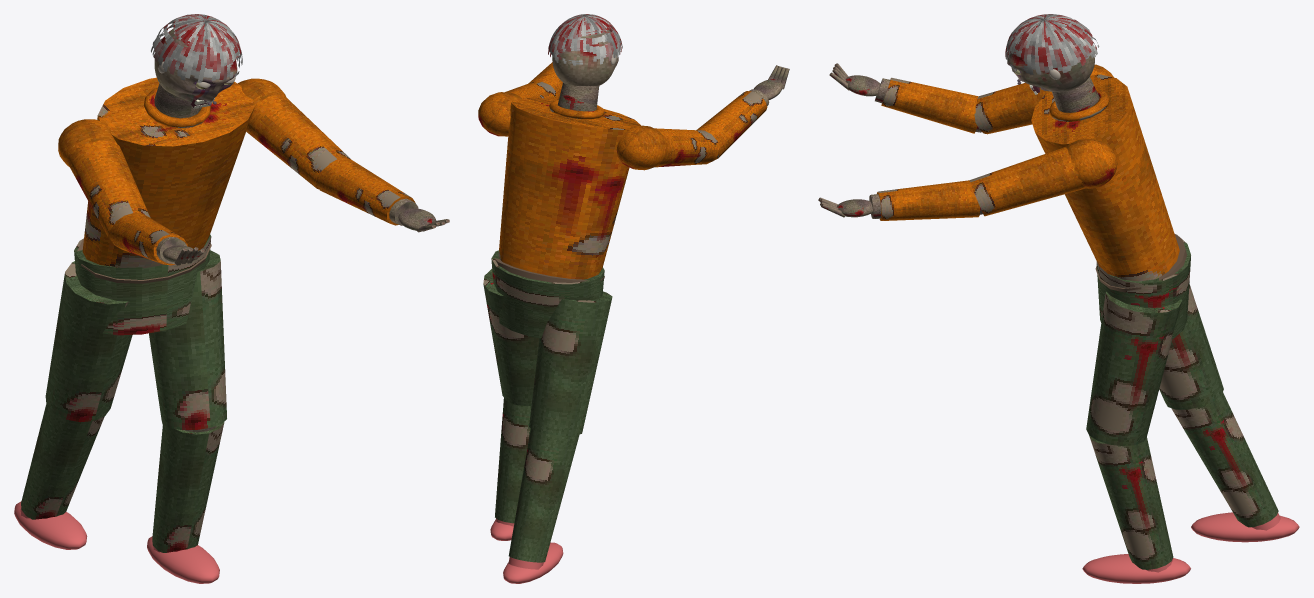
The model's file is Zombie_073.glb.
3 renders of one model, left to right at view 1: azimuth 30°, elevation 25°; view 2: azimuth 150°, elevation 25°; view 3: azimuth 270°, elevation 25°, orthographic. The views are drawn at different scales.
Visible parts, largest first — view 1: Zombie_073, object 45, object 12, object 4, object 18, object 13; view 2: Zombie_073, object 45, object 4, object 18, object 44, object 12; view 3: Zombie_073, object 45, object 12, object 4, object 18.
Boxes of the visible parts, x1=… form: Zombie_073: x1=14, y1=77, x2=350, y2=583; object 45: x1=151, y1=14, x2=242, y2=80; object 12: x1=316, y1=157, x2=415, y2=225; object 4: x1=109, y1=213, x2=187, y2=265; object 18: x1=154, y1=28, x2=237, y2=102; object 13: x1=398, y1=208, x2=436, y2=230; Zombie_073: x1=478, y1=81, x2=719, y2=583; object 45: x1=548, y1=14, x2=622, y2=63; object 4: x1=696, y1=91, x2=767, y2=160; object 18: x1=552, y1=29, x2=618, y2=86; object 44: x1=550, y1=26, x2=620, y2=65; object 12: x1=528, y1=62, x2=562, y2=99; Zombie_073: x1=969, y1=64, x2=1299, y2=583; object 45: x1=1005, y1=14, x2=1099, y2=72; object 12: x1=877, y1=180, x2=979, y2=220; object 4: x1=881, y1=77, x2=978, y2=133; object 18: x1=1007, y1=53, x2=1094, y2=92.
Bounding box in the file's own units: 0.7704 × 1.67 × 1.33.
Materials: 16 (6 with a texture image).
